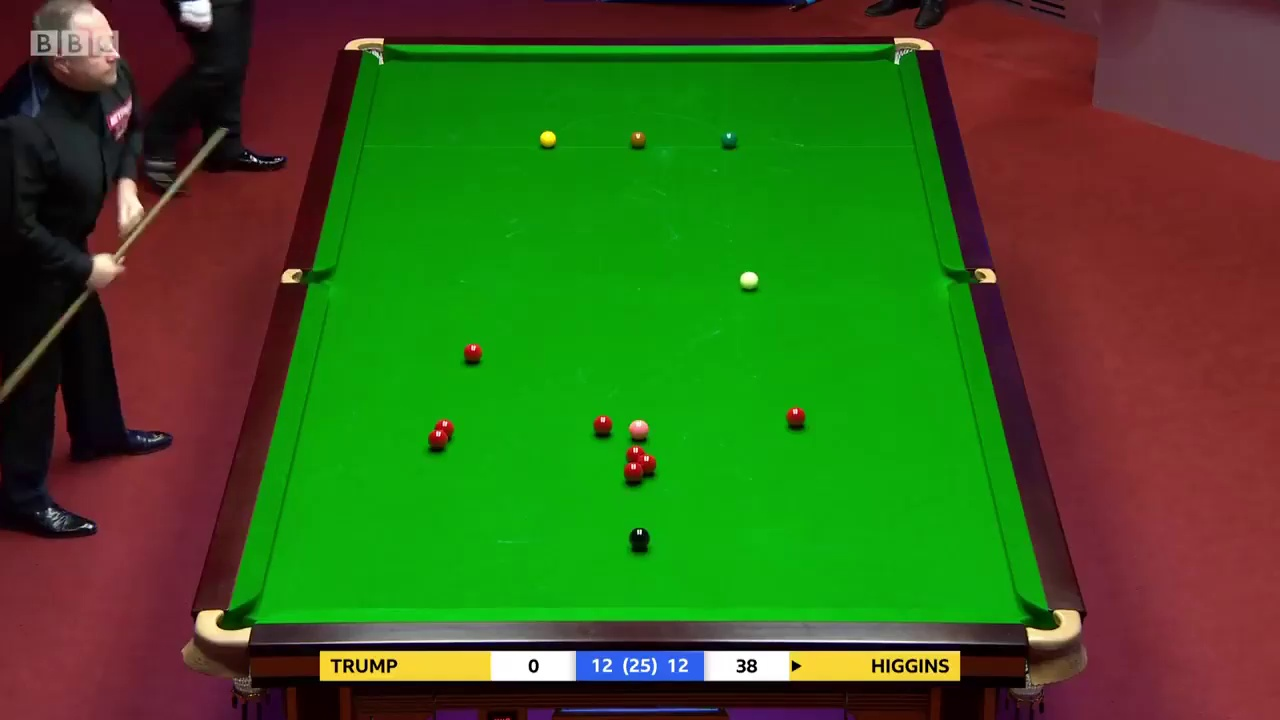ball: (426, 427, 449, 451), (462, 340, 485, 363), (627, 525, 650, 547), (537, 129, 560, 150), (590, 413, 613, 433), (628, 421, 652, 440), (739, 269, 760, 289), (623, 461, 643, 482), (786, 405, 805, 424), (719, 130, 738, 146), (629, 130, 646, 146)
